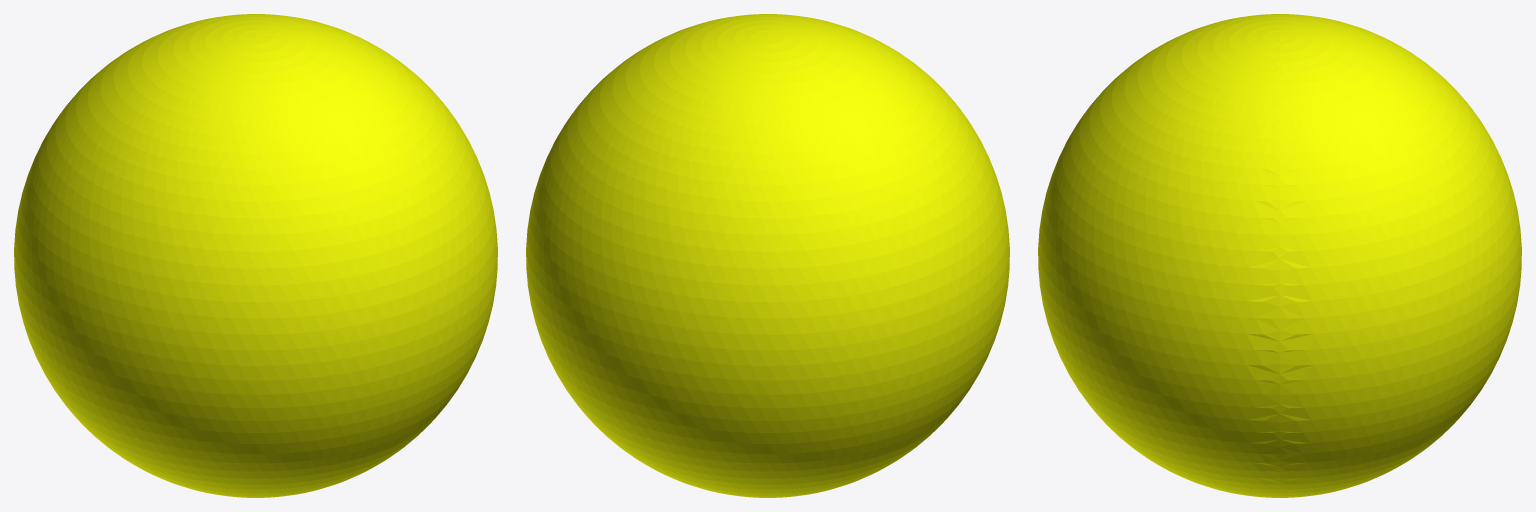
Rendered from ball.dae.
3 views of the same model, side by side, from view 1: azimuth 30°, elevation 25°; view 2: azimuth 150°, elevation 25°; view 3: azimuth 270°, elevation 25° (orthographic).
Parts seen in each view (by area): view 1: node0; view 2: node0; view 3: node0.
Part boxes in pixels (<box>): node0: <box>14,14,497,497</box>; node0: <box>526,14,1009,497</box>; node0: <box>1038,14,1521,497</box>.
Size of the model in its own units: 0.07 by 0.07 by 0.07.
